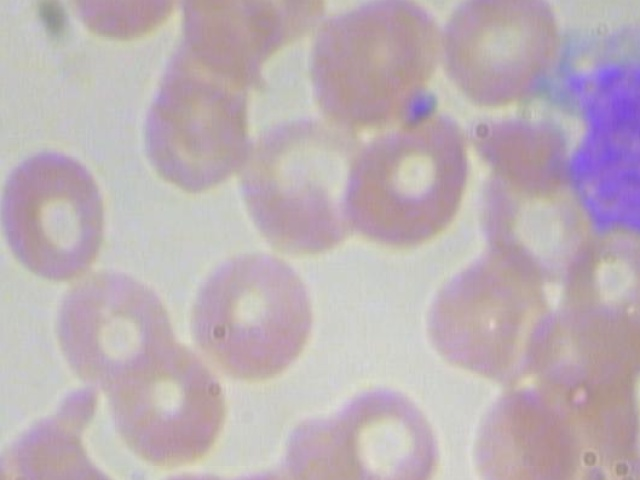RBC: (338, 103, 478, 246), (185, 246, 324, 389), (0, 139, 119, 286), (53, 264, 181, 392), (105, 337, 233, 465), (440, 0, 569, 108), (457, 375, 586, 480), (317, 378, 446, 480), (52, 0, 193, 45)
WBC: (520, 0, 640, 303)
